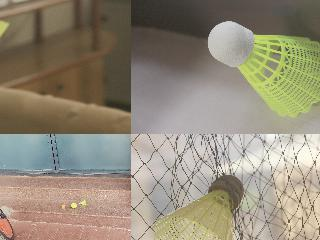shuttlecock: (207, 21, 319, 118), (153, 175, 244, 239), (0, 15, 10, 59), (79, 200, 85, 204)
